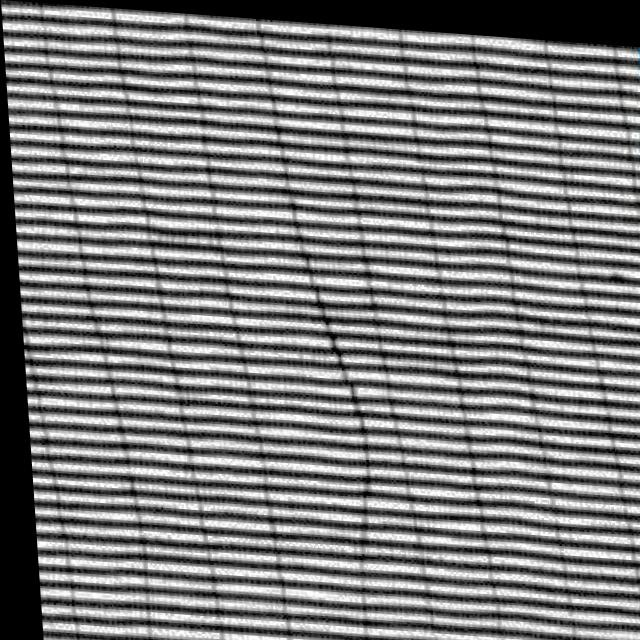Stitch: (262, 203, 421, 556)
